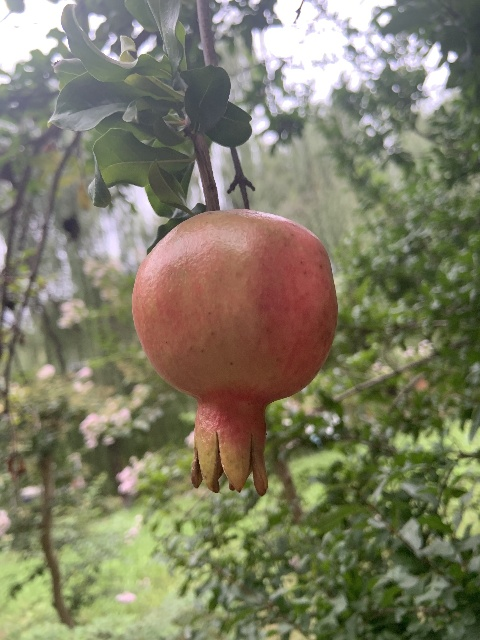ripe: (132, 206, 338, 497)
